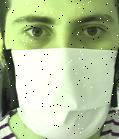with_mask: (1, 1, 119, 139)
